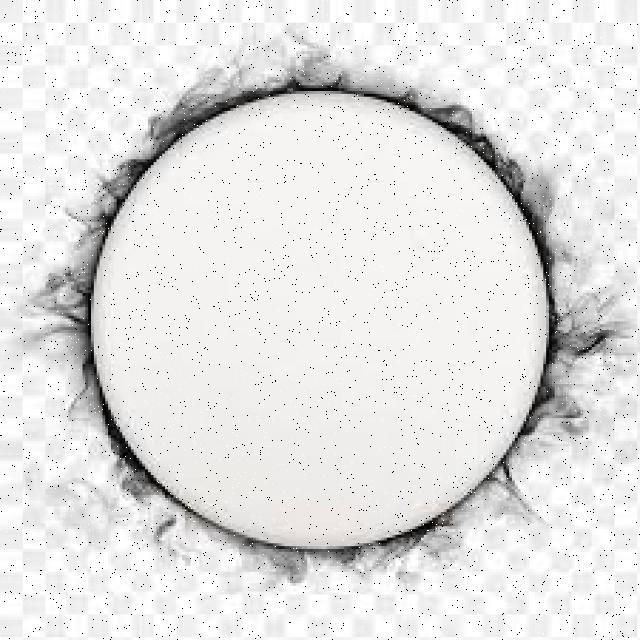Circle: (83, 85, 554, 554)
